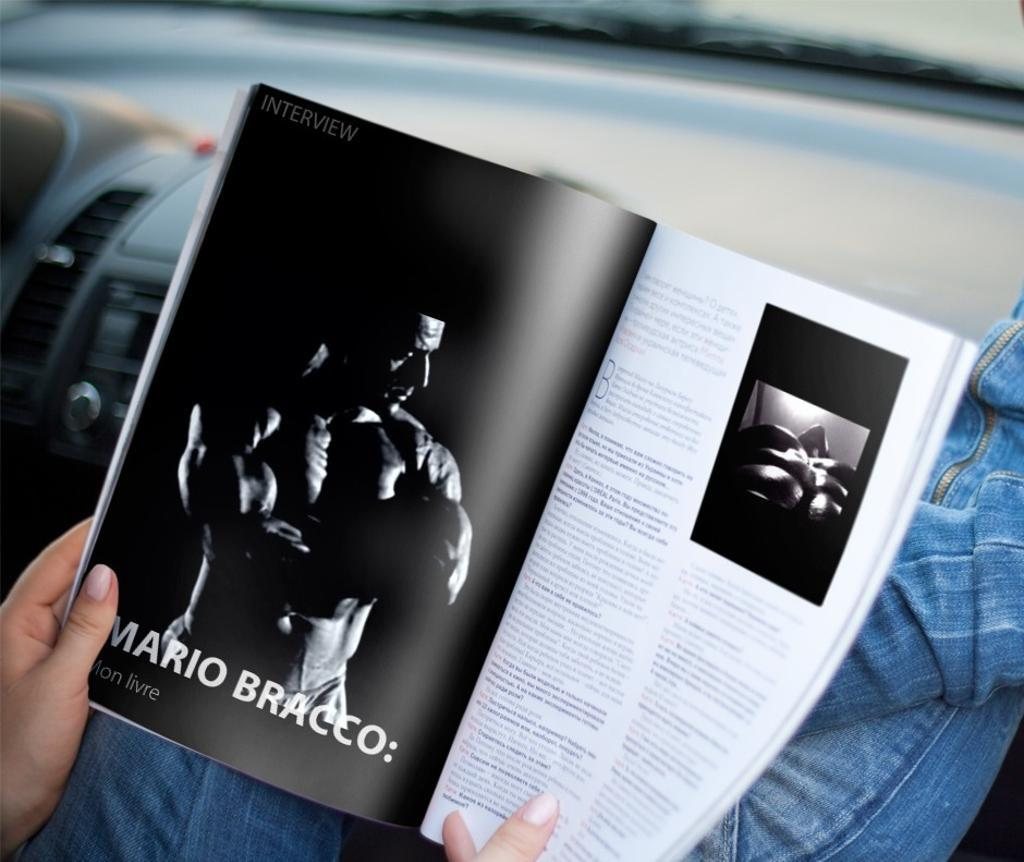face: (369, 315, 443, 415)
